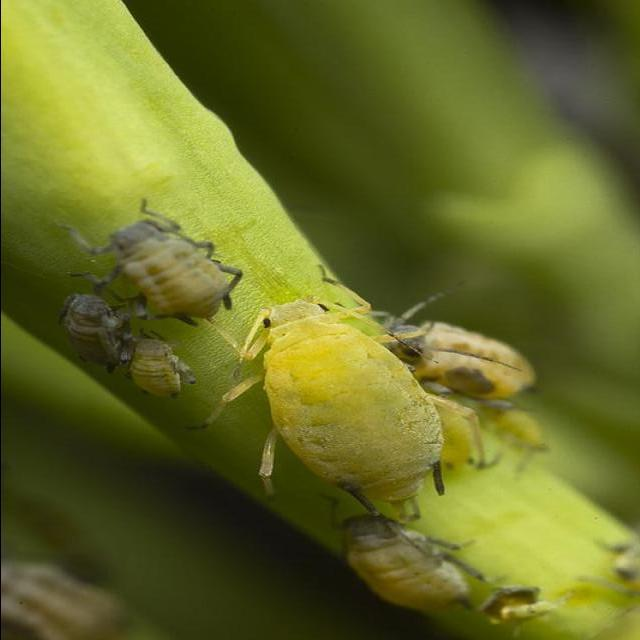aphid: (197, 243, 458, 527), (81, 186, 282, 344)
